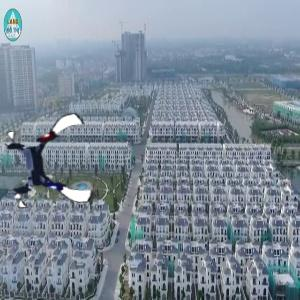drone: (4, 115, 98, 209)
